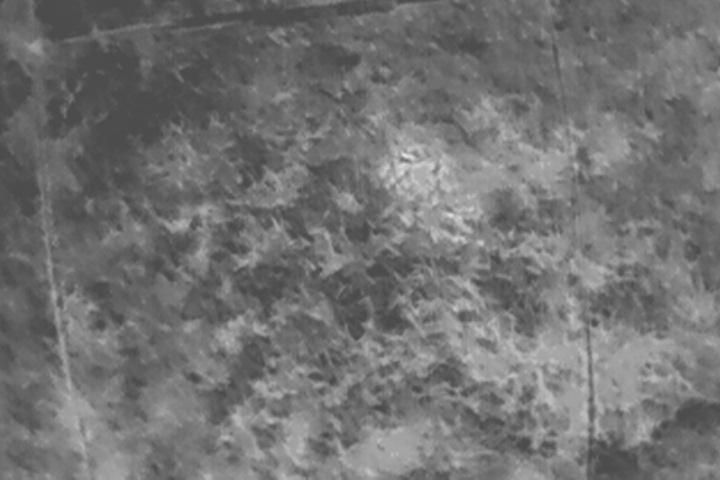landmine: (393, 142, 452, 205)
